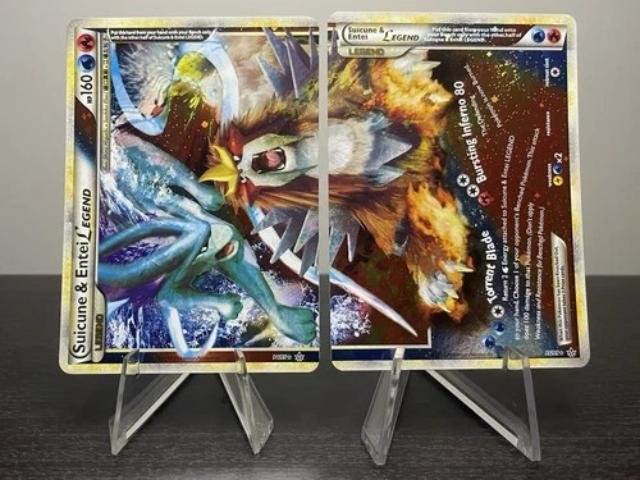Card: (326, 10, 592, 374), (56, 14, 322, 377)
Name: (68, 178, 95, 358), (343, 23, 423, 46)
